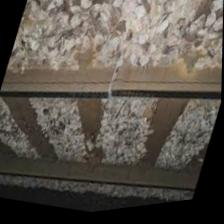person: (95, 55, 134, 115)
